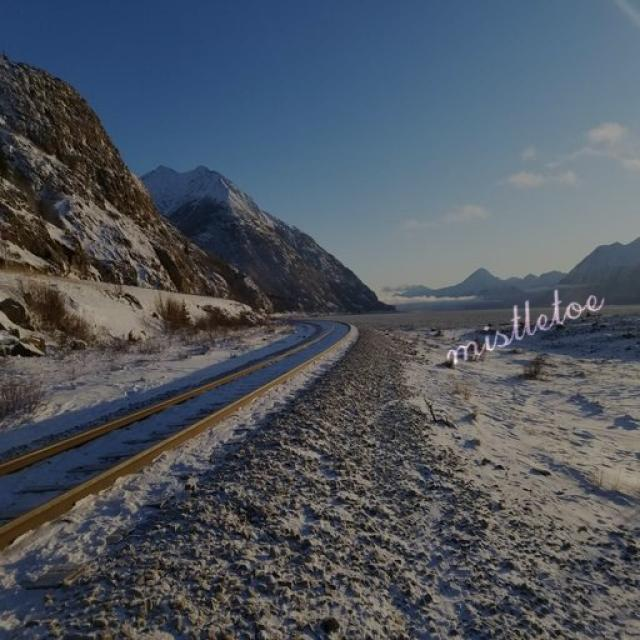watermark: (439, 270, 605, 374)
